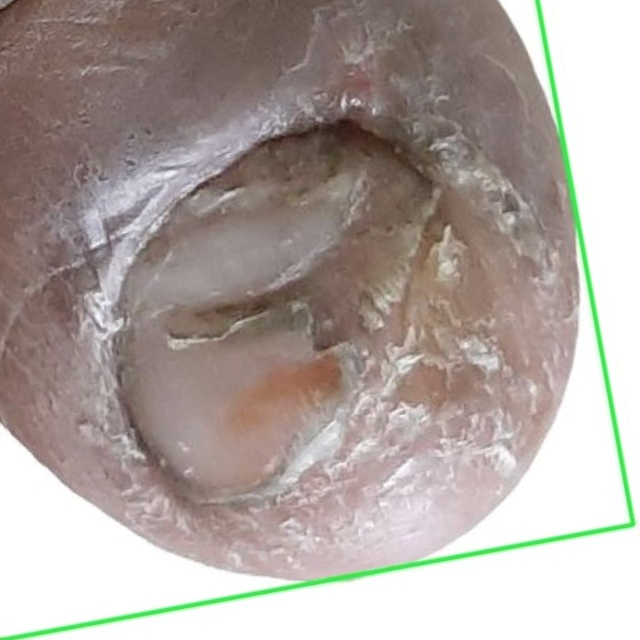Contact Dermatitis: (0, 0, 633, 639)
